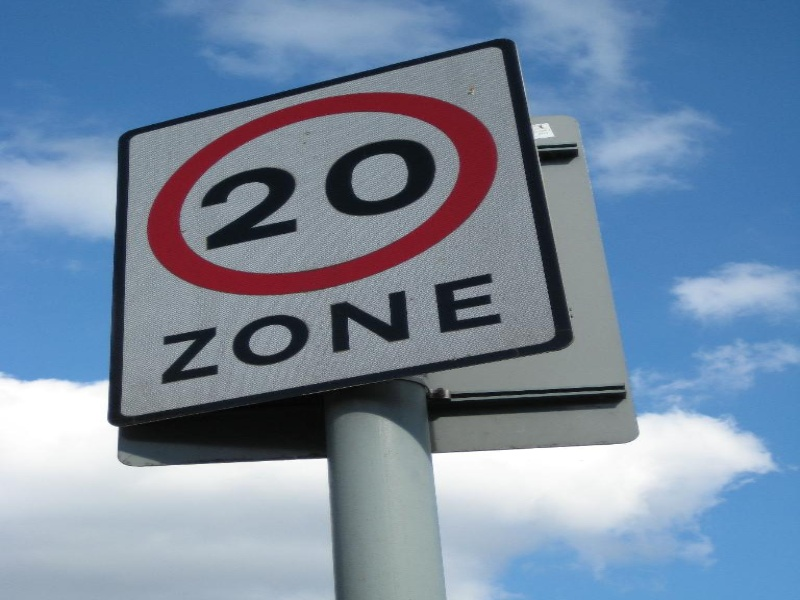speed_limit_20: (105, 70, 573, 411)
